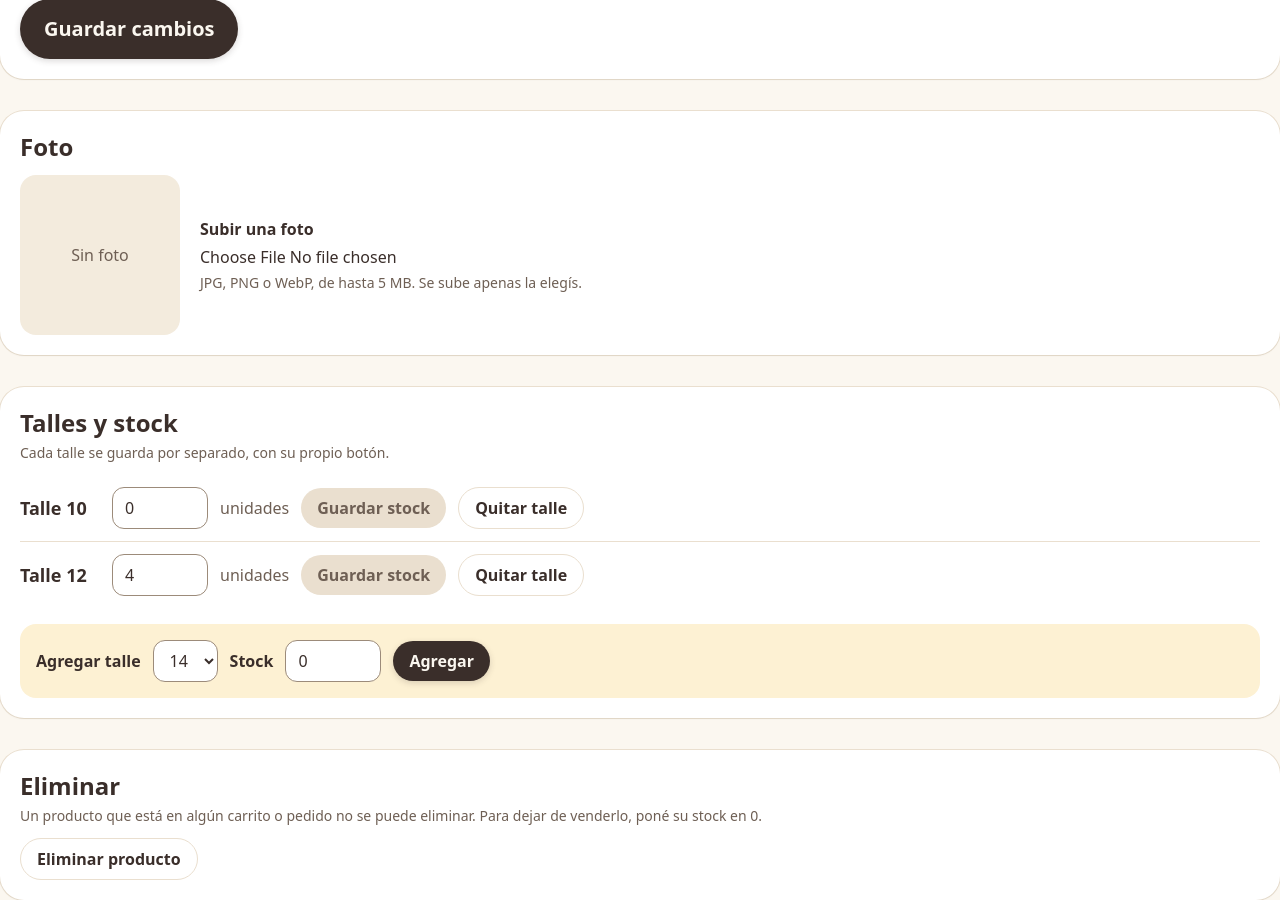
Test: Editar producto › eliminar pregunta antes y, si el backend no deja, muestra por que
The width and height of the screenshot is (1280, 900).
(page scrolled)
Click the button "Eliminar producto" at (109, 859), box [20,838,198,880]
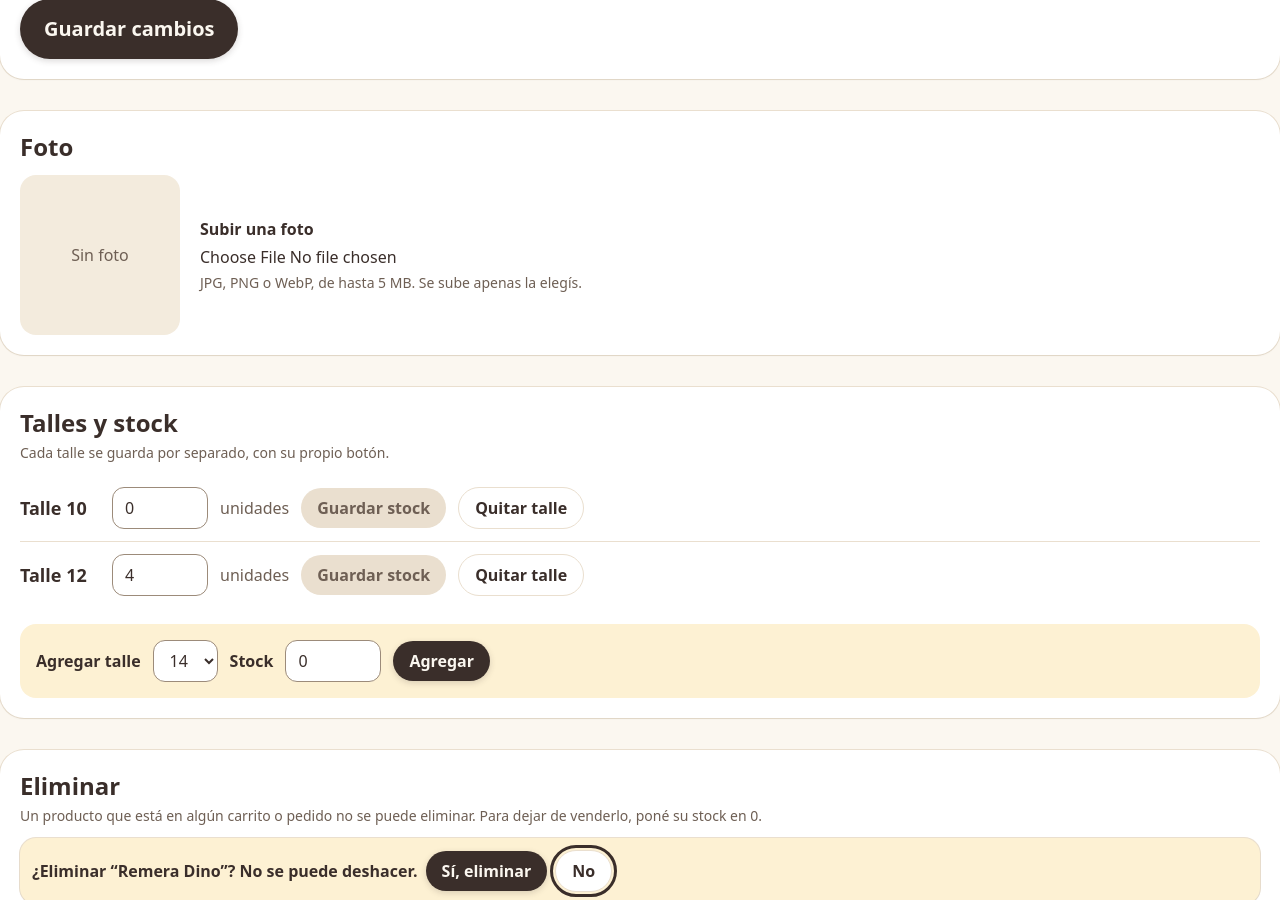
Click the button "Sí, eliminar" at (486, 871), box [426,851,547,891]
(page scrolled)
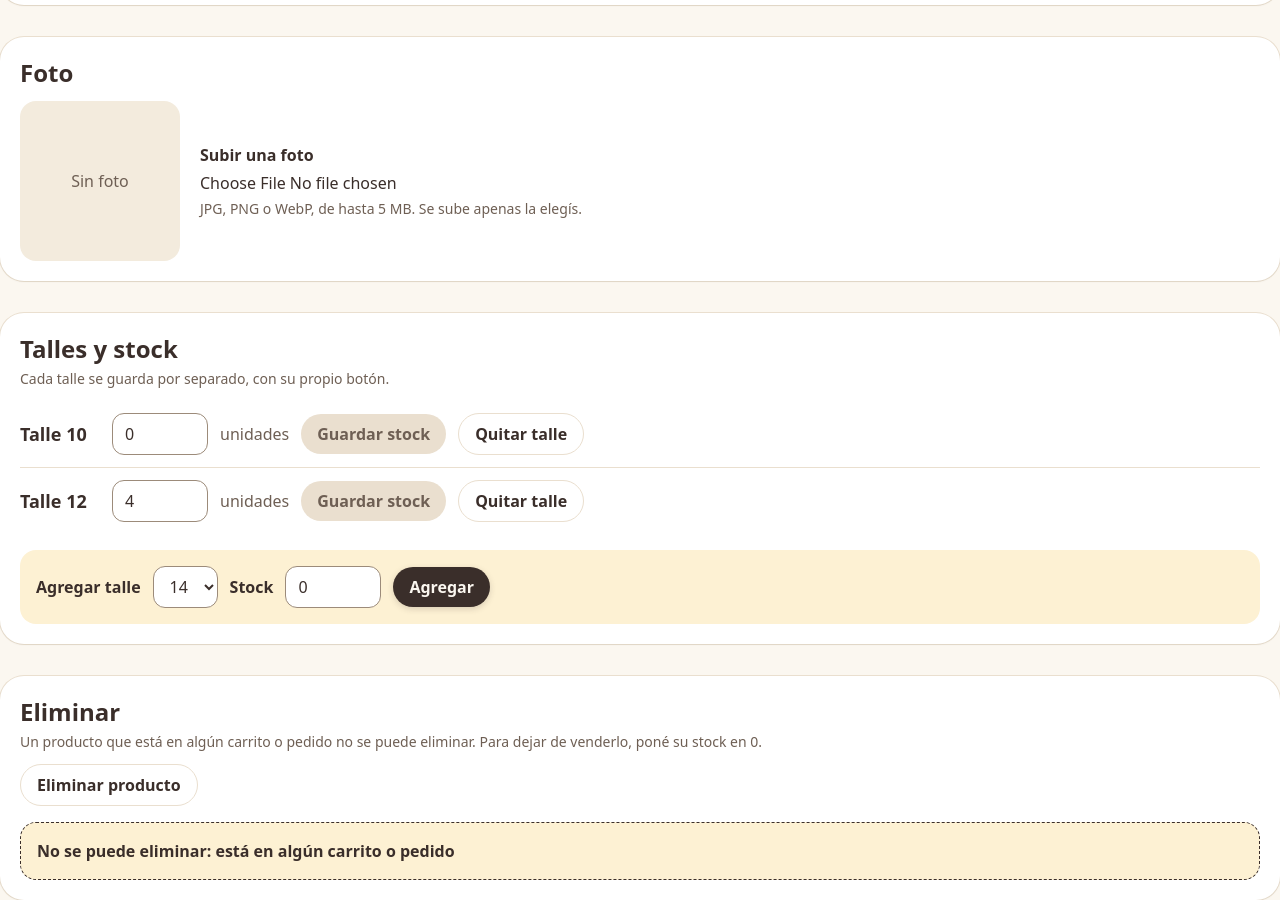
Now the message reads "No se puede eliminar: está en algún carrito o pedido", box [37,840,455,862]
